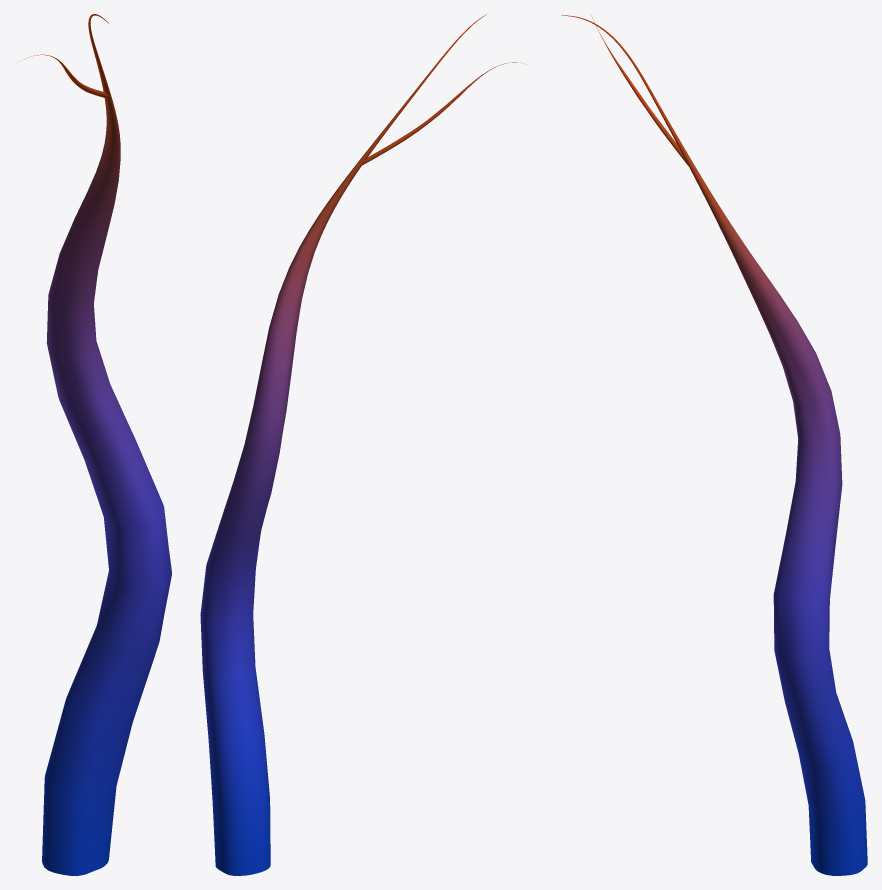
The model's file is Tentacle_E.fbx.
The picture shows the model from 3 angles, left to right: view 1: azimuth 30°, elevation 25°; view 2: azimuth 150°, elevation 25°; view 3: azimuth 270°, elevation 25°; orthographic projection. The views are drawn at different scales.
Parts seen in each view (by area): view 1: Tentacle_E_LOD0; view 2: Tentacle_E_LOD0; view 3: Tentacle_E_LOD0.
Part boxes in pixels (x1,y1,x2,y2): Tentacle_E_LOD0: [19, 14, 171, 875]; Tentacle_E_LOD0: [200, 14, 523, 875]; Tentacle_E_LOD0: [561, 15, 867, 875].
Size of what is drawn, in the model's own units: 26.19 by 86.72 by 30.3.
